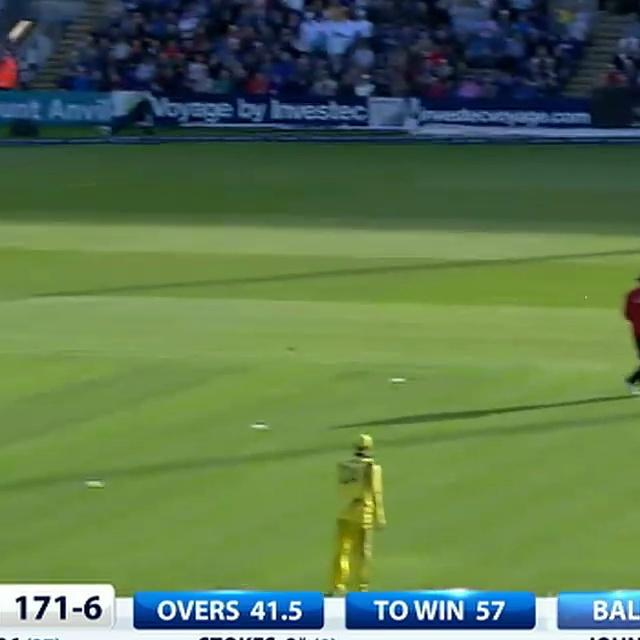umpire: (615, 269, 640, 397)
